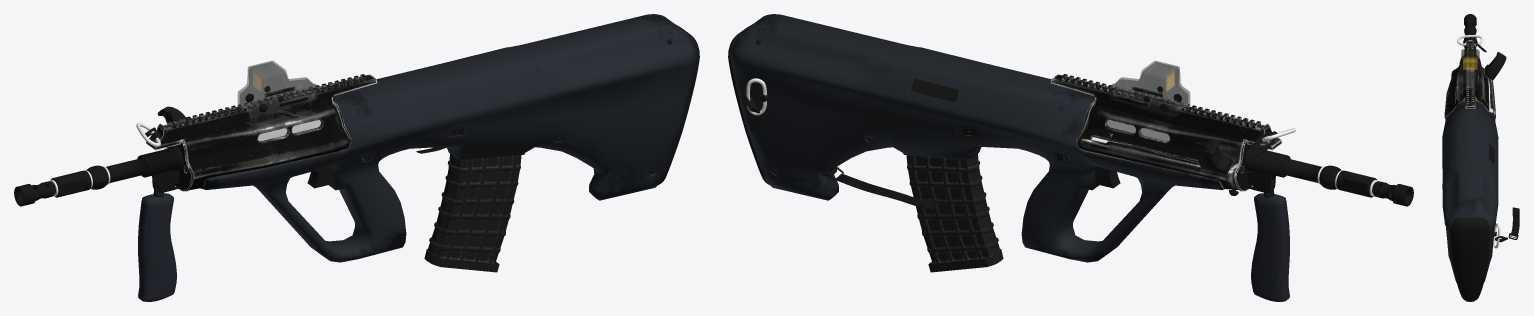
The model's file is aug_a1.glb.
The picture shows the model from 3 angles, left to right: view 1: azimuth 30°, elevation 25°; view 2: azimuth 150°, elevation 25°; view 3: azimuth 270°, elevation 25°; orthographic projection. The views are drawn at different scales.
Visible parts, largest first — view 1: aug_a1; view 2: aug_a1; view 3: aug_a1.
Boxes of the visible parts, x1,y1,x2,y2 form: aug_a1: (14, 14, 699, 301); aug_a1: (728, 14, 1413, 301); aug_a1: (1442, 14, 1519, 301).
Size of the model in its own units: 0.79 by 0.2858 by 0.1269.
4 materials, 4 textured.
